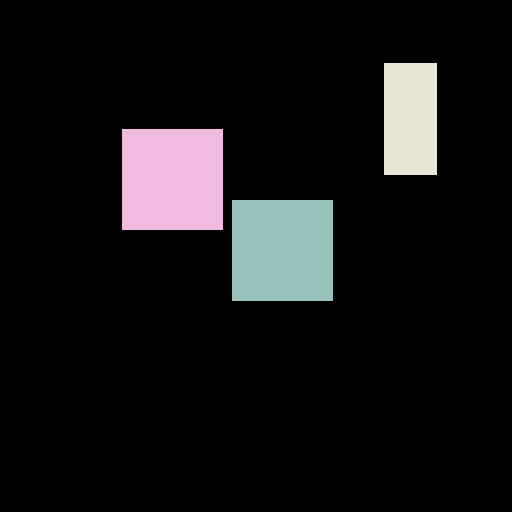rectangle: (384, 63, 436, 174)
square: (232, 200, 332, 300), (122, 129, 222, 229)
